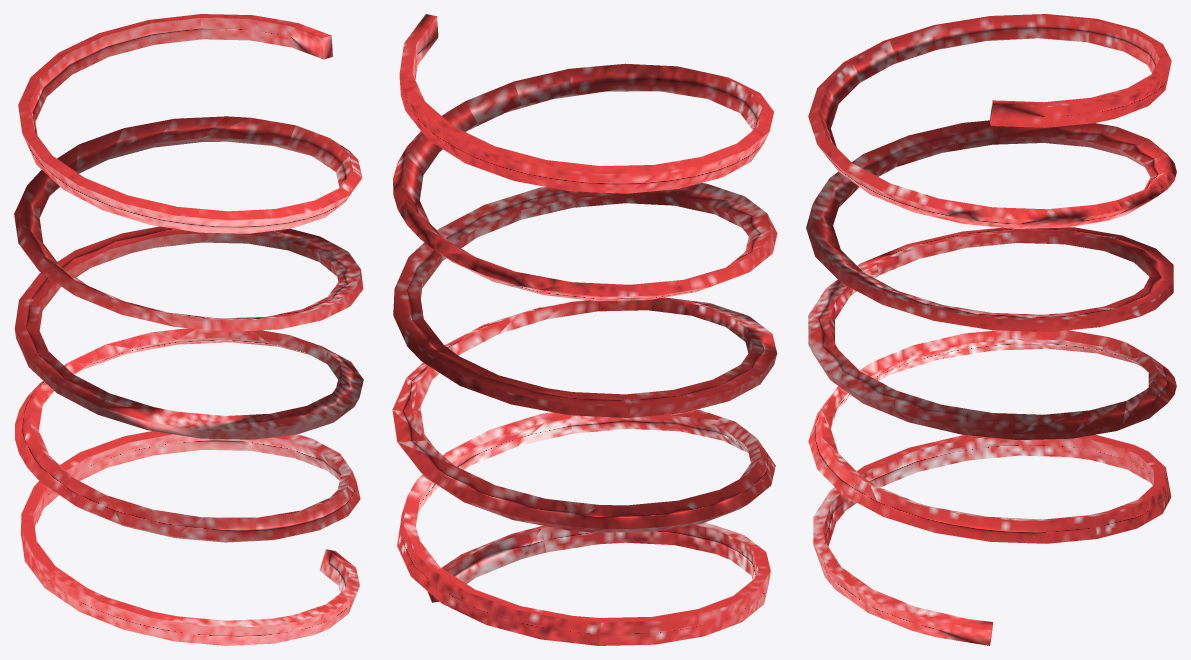
Rendered from speed-coil.glb.
3 views of the same model, side by side, from view 1: azimuth 30°, elevation 25°; view 2: azimuth 150°, elevation 25°; view 3: azimuth 270°, elevation 25° (orthographic). The views are drawn at different scales.
Visible parts, largest first — view 1: Asset3DLoader.sceneRoot; view 2: Asset3DLoader.sceneRoot; view 3: Asset3DLoader.sceneRoot.
Part boxes in pixels (x1,y1,x2,y2): Asset3DLoader.sceneRoot: [14, 14, 363, 645]; Asset3DLoader.sceneRoot: [392, 14, 777, 645]; Asset3DLoader.sceneRoot: [806, 14, 1176, 645].
Bounding box in the file's own units: 948 × 1621 × 1004.
Materials: 1 (1 with a texture image).
